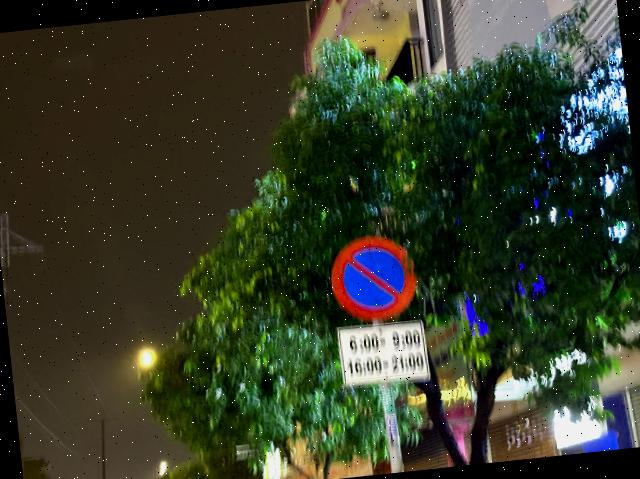cam-do-xe: (327, 231, 422, 324)
